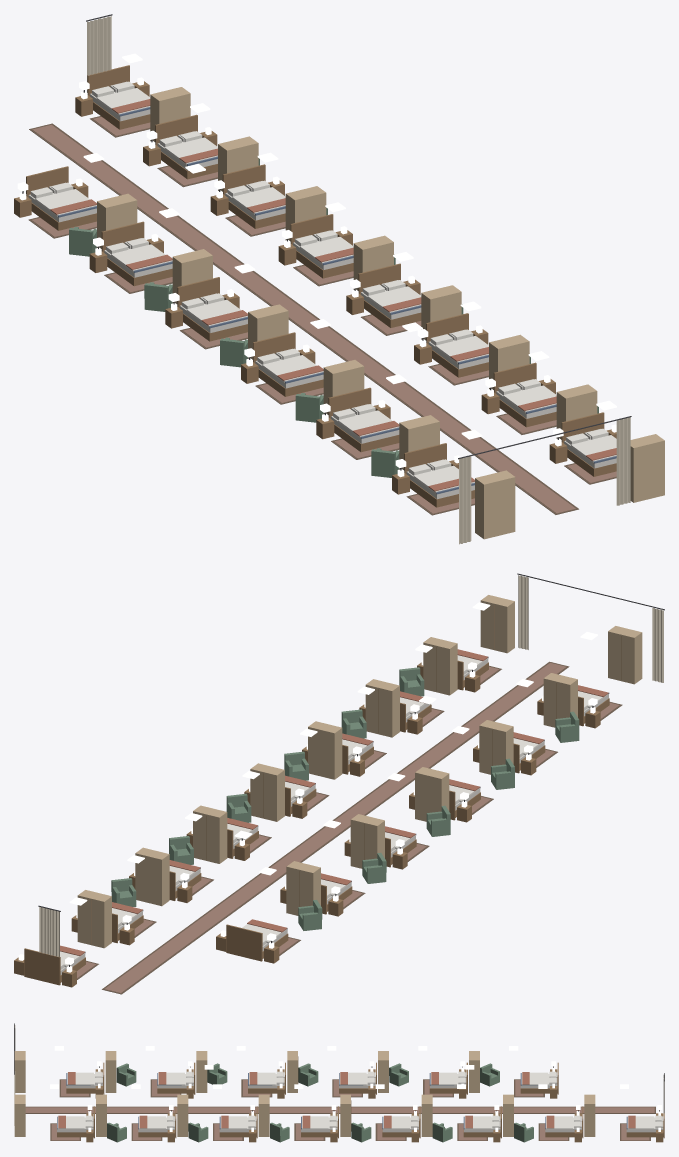
The model's file is fine-s1.glb.
3 renders of one model, top to bottom at view 1: azimuth 30°, elevation 25°; view 2: azimuth 150°, elevation 25°; view 3: azimuth 270°, elevation 25°, orthographic. The views are drawn at different scales.
Visible parts, largest first — view 1: soft-s1, dresser.005, dresser.013, bed-frame.004, bed-frame.001, bed-frame.003, bed-frame.000, bed-frame.002, bed-frame.009, bed-frame.012, bed-frame.008, bed-frame.010 (+17 smaller); view 2: soft-s1, dresser.005, dresser.006, dresser.013, dresser.008, dresser.012, dresser.010, dresser.009, dresser.007, dresser.011, dresser.001, dresser.004 (+16 smaller); view 3: soft-s1, dresser.006, dresser.008, dresser.010, dresser.011, dresser.013, dresser.009, dresser.004, dresser.003, dresser.005, dresser.002, dresser.007 (+28 smaller).
Part boxes in pixels (x1,y1,x2,y2): soft-s1: (17, 14, 631, 544); dresser.005: (475, 470, 515, 539); dresser.013: (630, 434, 664, 502); bed-frame.004: (328, 387, 399, 452); bed-frame.001: (101, 221, 172, 286); bed-frame.003: (253, 332, 323, 396); bed-frame.000: (26, 166, 96, 230); bed-frame.002: (177, 277, 247, 341); bed-frame.009: (290, 214, 353, 278); bed-frame.012: (493, 362, 556, 427); bed-frame.008: (222, 164, 285, 228); bed-frame.010: (358, 263, 421, 327); soft-s1: (38, 573, 664, 994); dresser.005: (608, 626, 642, 684); dresser.006: (77, 890, 111, 948); dresser.013: (480, 595, 514, 653); dresser.008: (193, 805, 227, 863); dresser.012: (423, 637, 457, 695); dresser.010: (308, 721, 342, 779); dresser.009: (250, 763, 284, 821); dresser.007: (135, 847, 169, 906); dresser.011: (365, 679, 399, 737); dresser.001: (350, 814, 384, 868); dresser.004: (543, 673, 577, 727); soft-s1: (14, 1023, 664, 1140); dresser.006: (584, 1094, 595, 1136); dresser.008: (421, 1094, 432, 1136); dresser.010: (258, 1094, 269, 1136); dresser.011: (177, 1094, 188, 1136); dresser.013: (14, 1094, 25, 1136); dresser.009: (340, 1094, 351, 1136); dresser.004: (105, 1051, 116, 1092); dresser.003: (196, 1051, 207, 1092); dresser.005: (14, 1051, 25, 1092); dresser.002: (287, 1051, 298, 1092); dresser.007: (503, 1094, 513, 1136).
Size of the model in its own units: 8.66 by 3.21 by 35.87.
